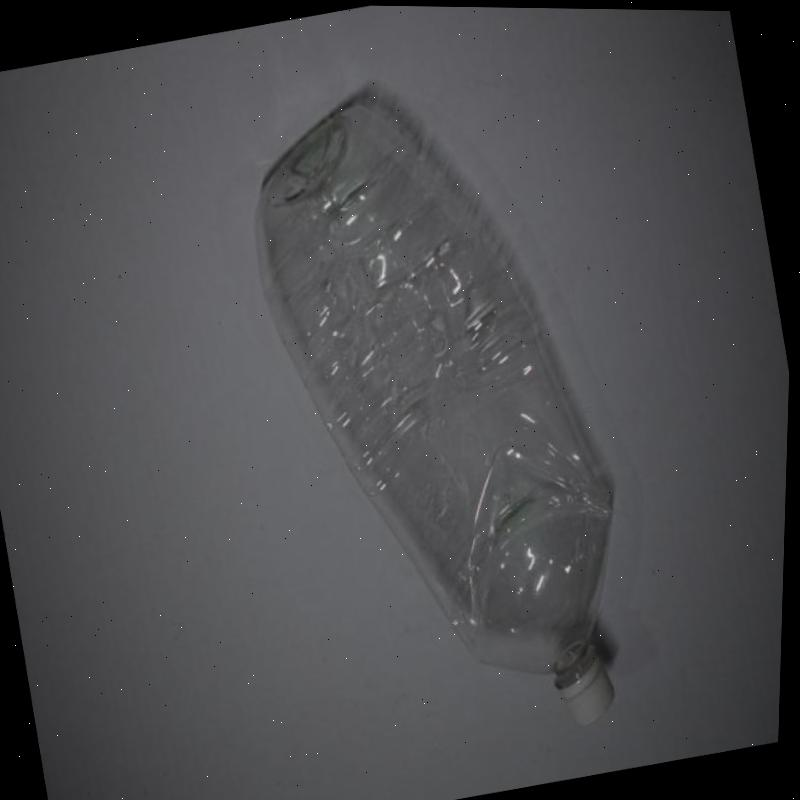botella: (213, 55, 673, 777)
